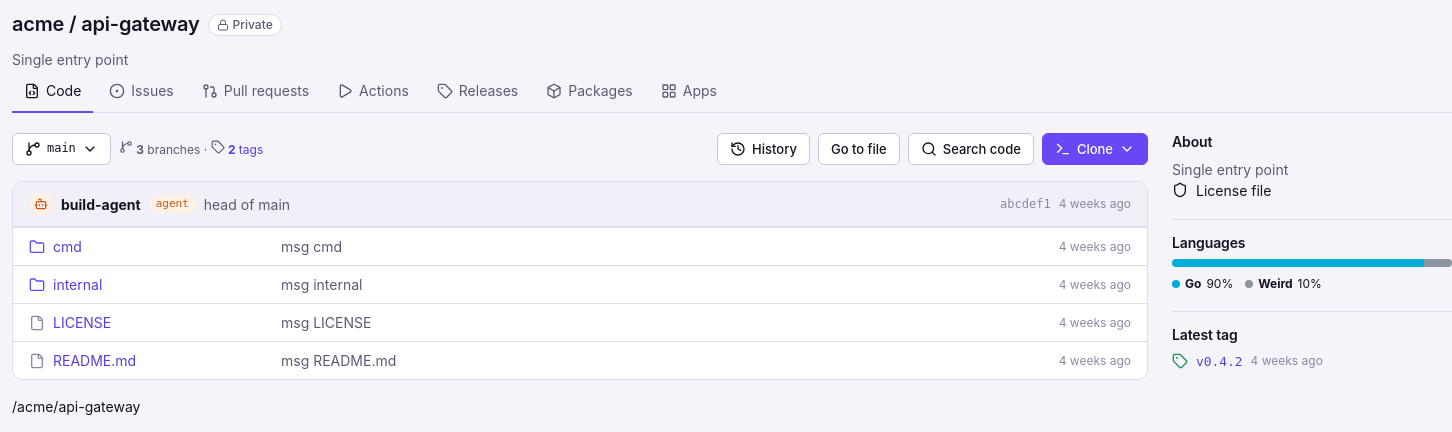
Test: CodeBrowser › naviga nelle cartelle con breadcrumb e ricarica
The image size is (1452, 432).
Click the link "cmd" at (67, 246), box [53,236,82,257]
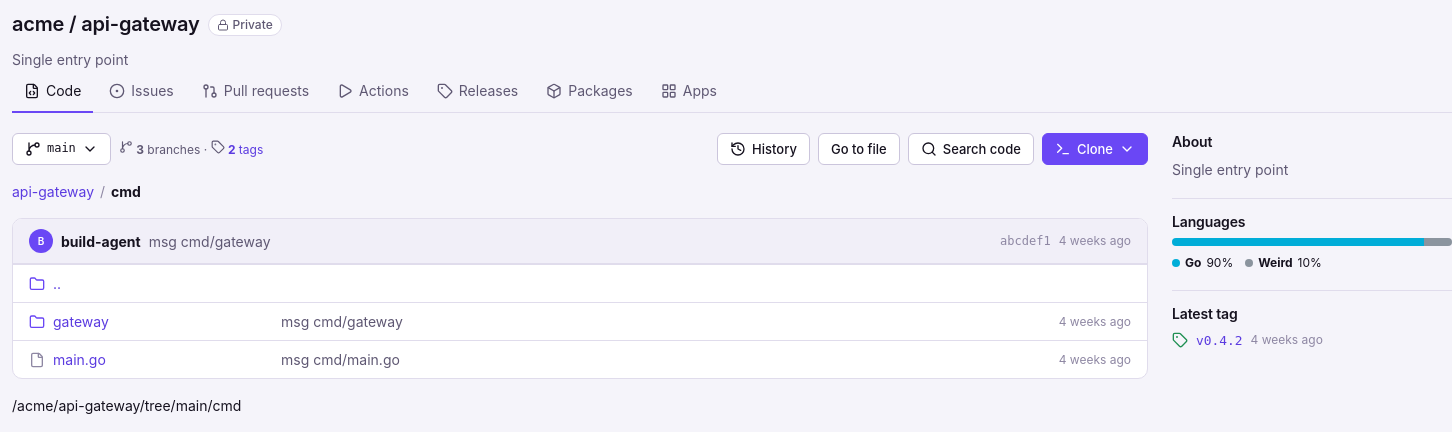
Expected: the link "gateway" is shown, [53,311,109,332]
Result: the text with test id "where" reads "/acme/api-gateway/tree/main/cmd" at [12,397,241,414]
Click the link "api-gateway" at (53, 192), box [12,181,94,202]
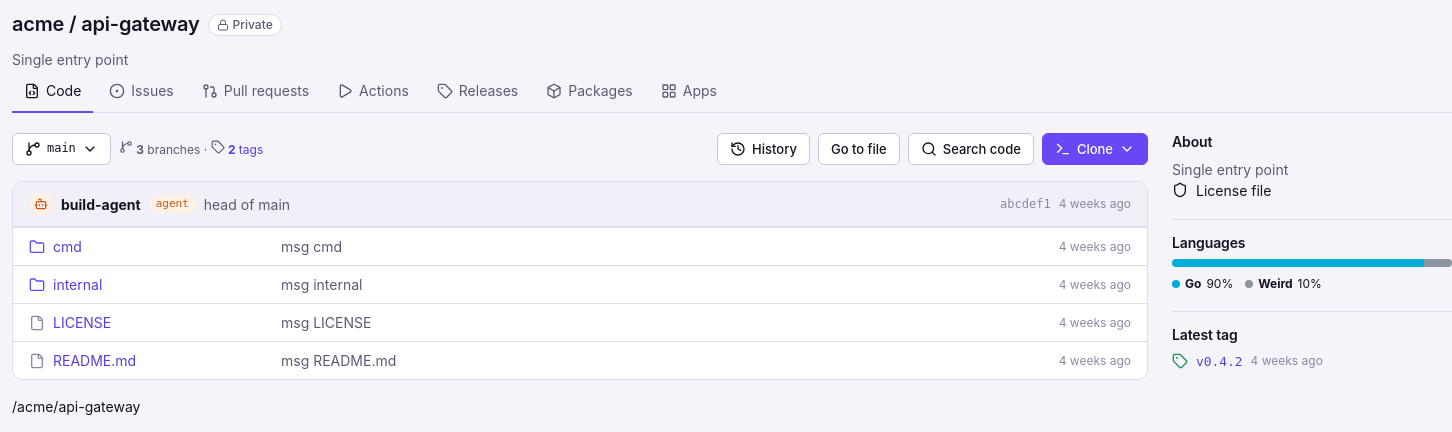
Result: the link "internal" is shown at [53,274,102,295]
